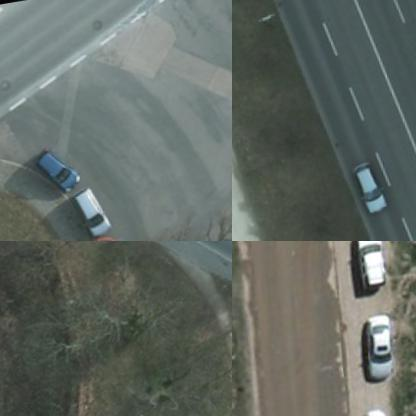car: (362, 315, 405, 389), (74, 186, 122, 238), (352, 241, 398, 295), (355, 164, 398, 219), (42, 148, 88, 198), (361, 400, 403, 415)
